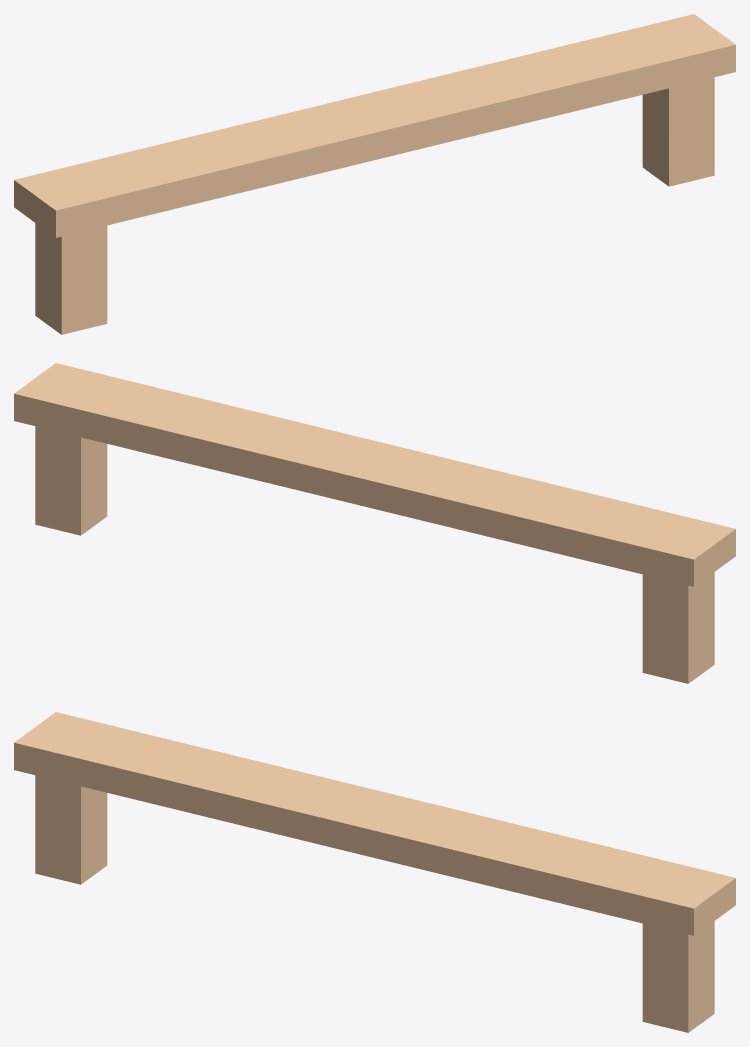
Rendered from fence_simpleLow.glb.
The picture shows the model from 3 angles, top to bottom: view 1: azimuth 30°, elevation 25°; view 2: azimuth 150°, elevation 25°; view 3: azimuth 330°, elevation 25°; orthographic projection.
Visible parts, largest first — view 1: fence_simpleLow; view 2: fence_simpleLow; view 3: fence_simpleLow.
Boxes of the visible parts, left/top/right/bottom form: fence_simpleLow: left=14, top=14, right=735, bottom=334; fence_simpleLow: left=14, top=363, right=735, bottom=683; fence_simpleLow: left=14, top=712, right=735, bottom=1032.
Size of the model in its own units: 1.04 by 0.195 by 0.1112.
